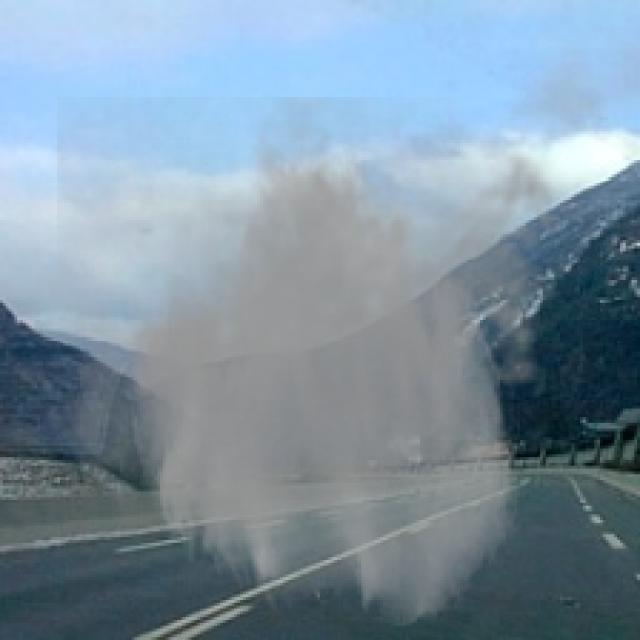Smoke: (57, 97, 574, 632)
